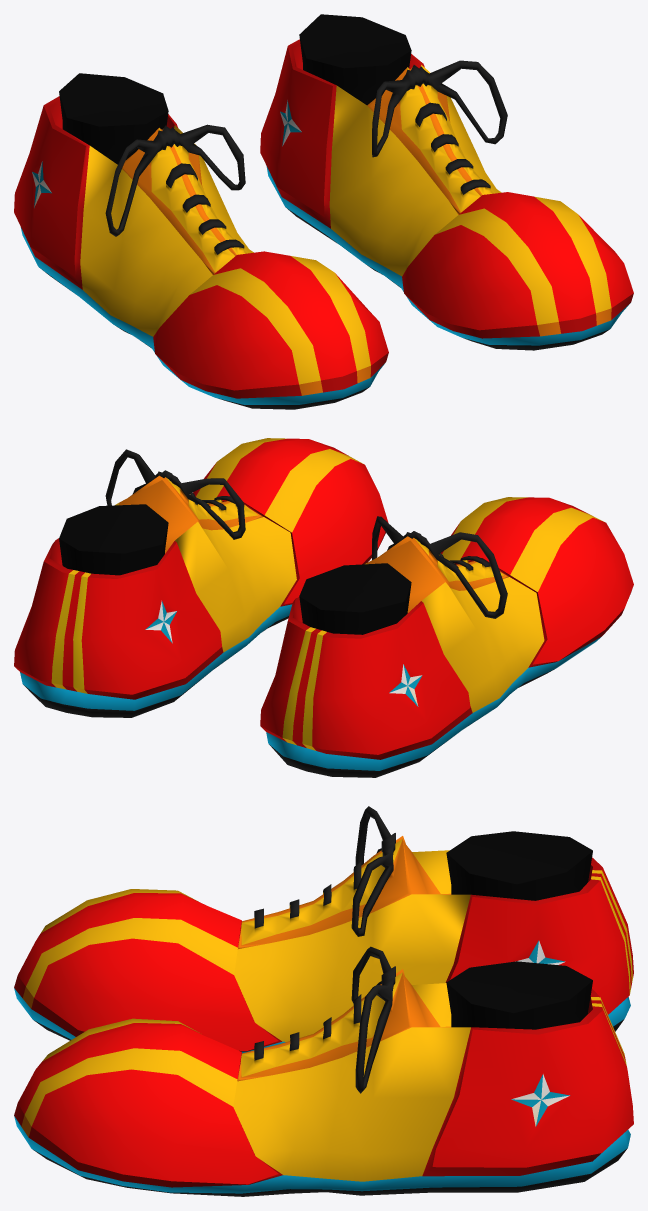
Rendered from M_Feet_Clown.glb.
The picture shows the model from 3 angles, top to bottom: view 1: azimuth 30°, elevation 25°; view 2: azimuth 150°, elevation 25°; view 3: azimuth 270°, elevation 25°; orthographic projection. The views are drawn at different scales.
Parts seen in each view (by area): view 1: M_Feet_Clown; view 2: M_Feet_Clown; view 3: M_Feet_Clown.
Boxes of the visible parts, <box> form: M_Feet_Clown: <box>14,14,633,409</box>; M_Feet_Clown: <box>14,438,633,777</box>; M_Feet_Clown: <box>14,806,633,1196</box>.
Size of what is drawn, in the model's own units: 1.03 by 0.4287 by 1.18.
1 material, 1 textured.
